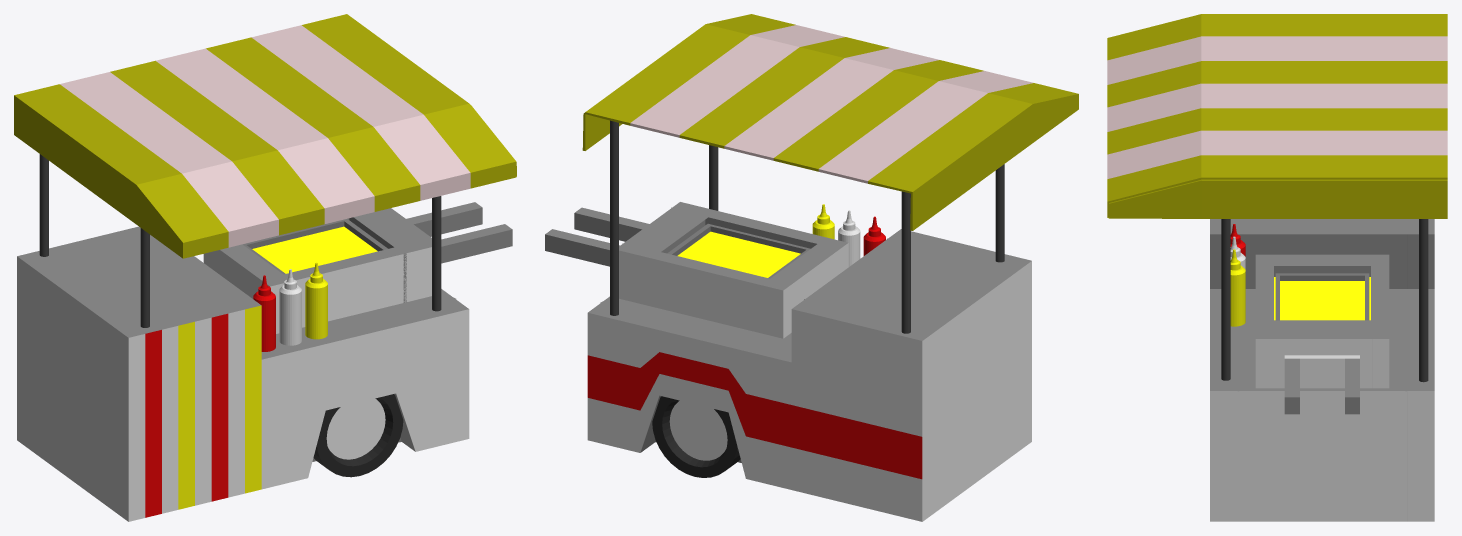
Rendered from stand.fbx.
3 views of the same model, side by side, from view 1: azimuth 30°, elevation 25°; view 2: azimuth 150°, elevation 25°; view 3: azimuth 270°, elevation 25° (orthographic). The views are drawn at different scales.
Parts seen in each view (by area): view 1: Cube.001; view 2: Cube.001; view 3: Cube.001.
Part boxes in pixels (left/top/right/bottom): Cube.001: left=14, top=14, right=516, bottom=521; Cube.001: left=545, top=14, right=1078, bottom=521; Cube.001: left=1107, top=14, right=1447, bottom=521.
Size of the model in its own units: 162 by 129 by 113.
